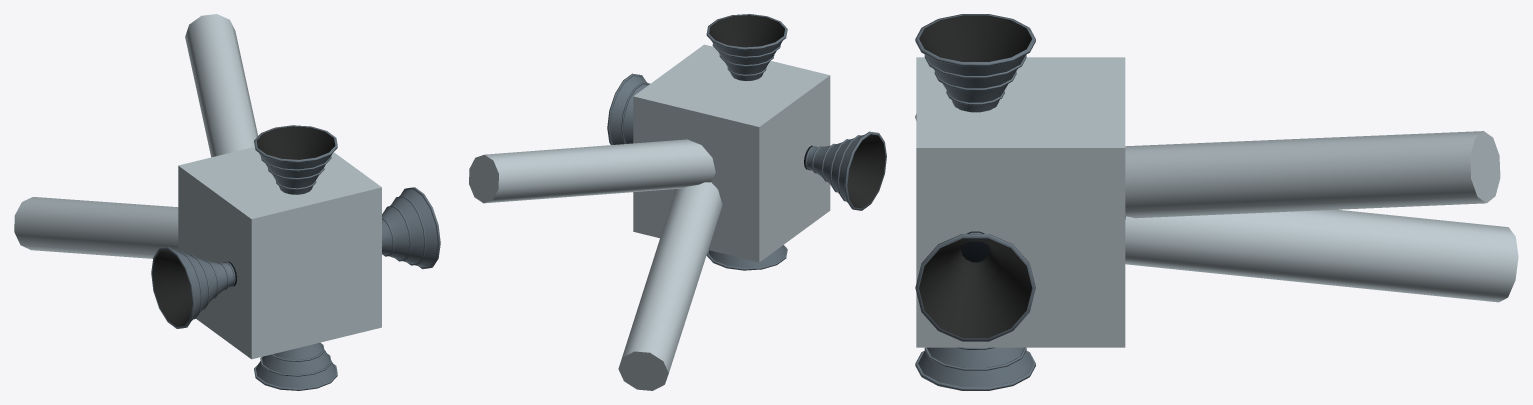
The model's file is eagle_ascent.rcs_03.glb.
3 renders of one model, left to right at view 1: azimuth 30°, elevation 25°; view 2: azimuth 150°, elevation 25°; view 3: azimuth 270°, elevation 25°, orthographic. The views are drawn at different scales.
Parts seen in each view (by area): view 1: eagle_ascent.rcs_03.mesh, eagle_ascent.rcs_03.nozzle_04.mesh, eagle_ascent.rcs_03.nozzle_01.mesh, eagle_ascent.rcs_03.nozzle_03.mesh, eagle_ascent.rcs_03.nozzle_02.mesh; view 2: eagle_ascent.rcs_03.mesh, eagle_ascent.rcs_03.nozzle_04.mesh, eagle_ascent.rcs_03.nozzle_01.mesh, eagle_ascent.rcs_03.nozzle_03.mesh, eagle_ascent.rcs_03.nozzle_02.mesh; view 3: eagle_ascent.rcs_03.mesh, eagle_ascent.rcs_03.nozzle_03.mesh, eagle_ascent.rcs_03.nozzle_01.mesh, eagle_ascent.rcs_03.nozzle_02.mesh.
Part boxes in pixels (box(x1,y1,x2,y2)): eagle_ascent.rcs_03.mesh: box(14, 14, 381, 359); eagle_ascent.rcs_03.nozzle_04.mesh: box(151, 247, 236, 328); eagle_ascent.rcs_03.nozzle_01.mesh: box(254, 125, 337, 194); eagle_ascent.rcs_03.nozzle_03.mesh: box(382, 187, 440, 269); eagle_ascent.rcs_03.nozzle_02.mesh: box(254, 342, 337, 390); eagle_ascent.rcs_03.mesh: box(469, 44, 830, 390); eagle_ascent.rcs_03.nozzle_04.mesh: box(804, 131, 886, 210); eagle_ascent.rcs_03.nozzle_01.mesh: box(706, 14, 787, 80); eagle_ascent.rcs_03.nozzle_03.mesh: box(607, 73, 649, 144); eagle_ascent.rcs_03.nozzle_02.mesh: box(706, 245, 787, 270); eagle_ascent.rcs_03.mesh: box(916, 57, 1518, 347); eagle_ascent.rcs_03.nozzle_03.mesh: box(915, 231, 1035, 341); eagle_ascent.rcs_03.nozzle_01.mesh: box(915, 14, 1035, 112); eagle_ascent.rcs_03.nozzle_02.mesh: box(915, 347, 1035, 390).
Size of the model in its own units: 0.6624 by 0.5888 by 0.9831.
